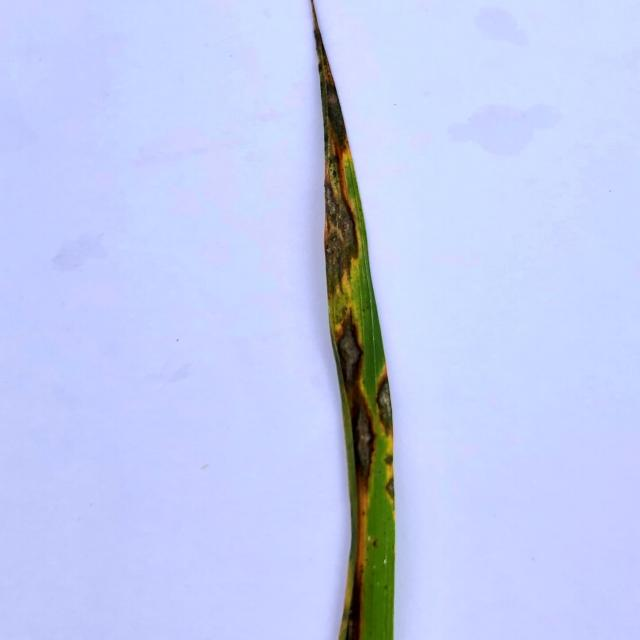leaf blast: (318, 64, 357, 174), (346, 386, 380, 498), (346, 390, 380, 494), (322, 180, 364, 252), (332, 304, 367, 390), (341, 527, 363, 640), (322, 229, 349, 299), (373, 372, 398, 439)
